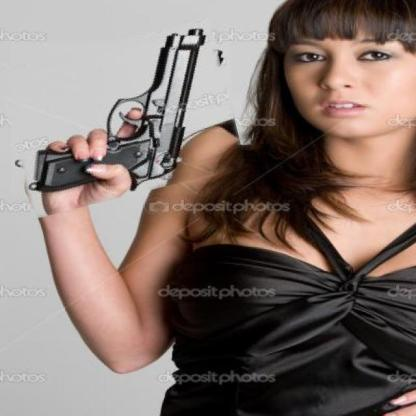handgun: (4, 30, 238, 207)
